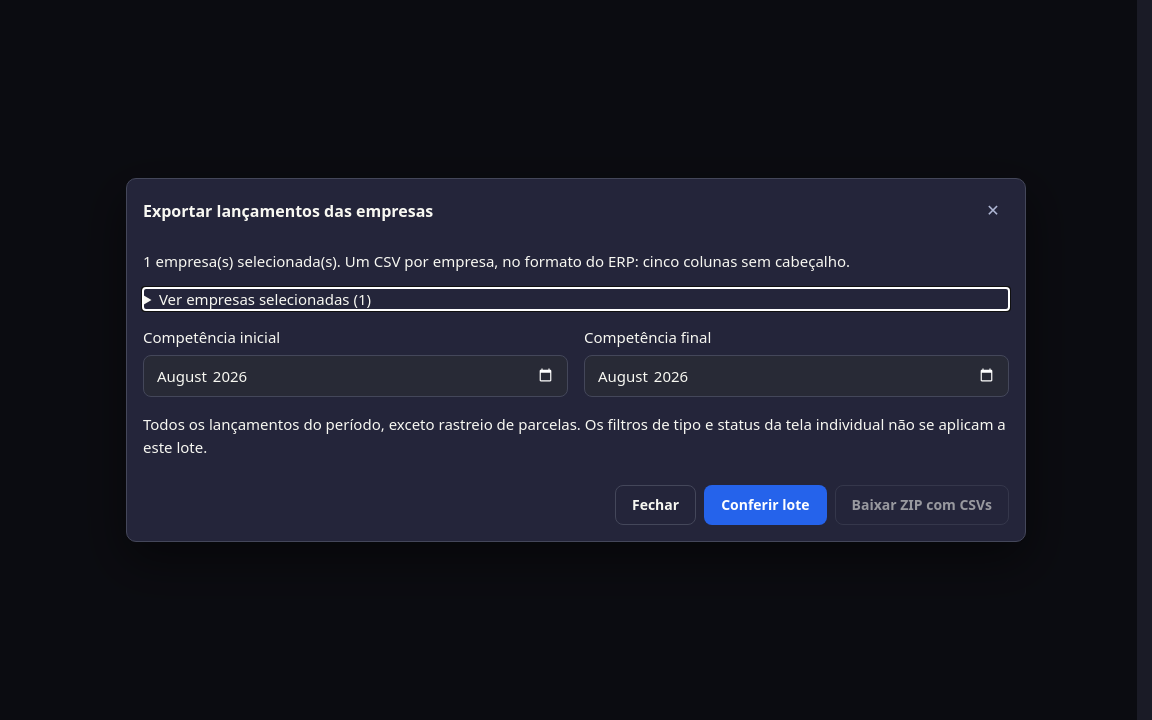
Test: confere selecionadas e bloqueia download até reconhecer alertas
This screenshot has width=1152, height=720.
Click the button "Conferir lote": (765, 505) x1=704 y1=485 x2=826 y2=525
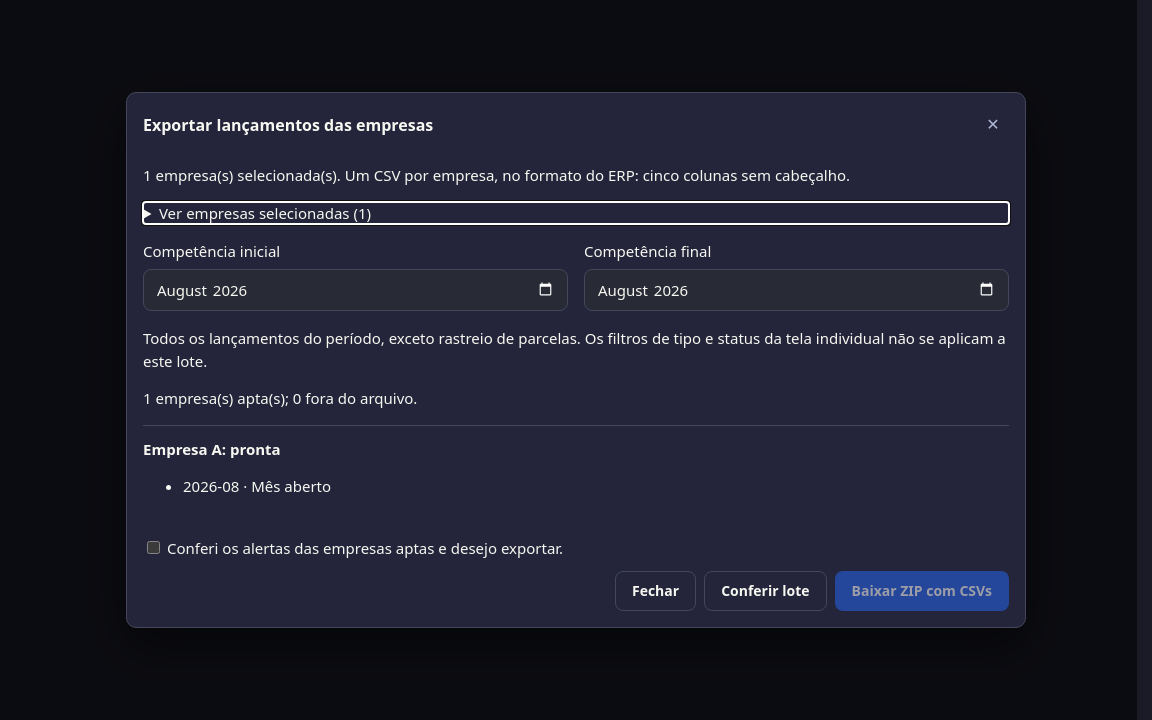
Expected: the button "Baixar ZIP com CSVs" is disabled, x1=834 y1=571 x2=1009 y2=611
Expected: the list item "2026-08 · Mês aberto" is shown, x1=183 y1=476 x2=331 y2=496
Click the checkbox: (154, 547) x1=147 y1=540 x2=160 y2=554
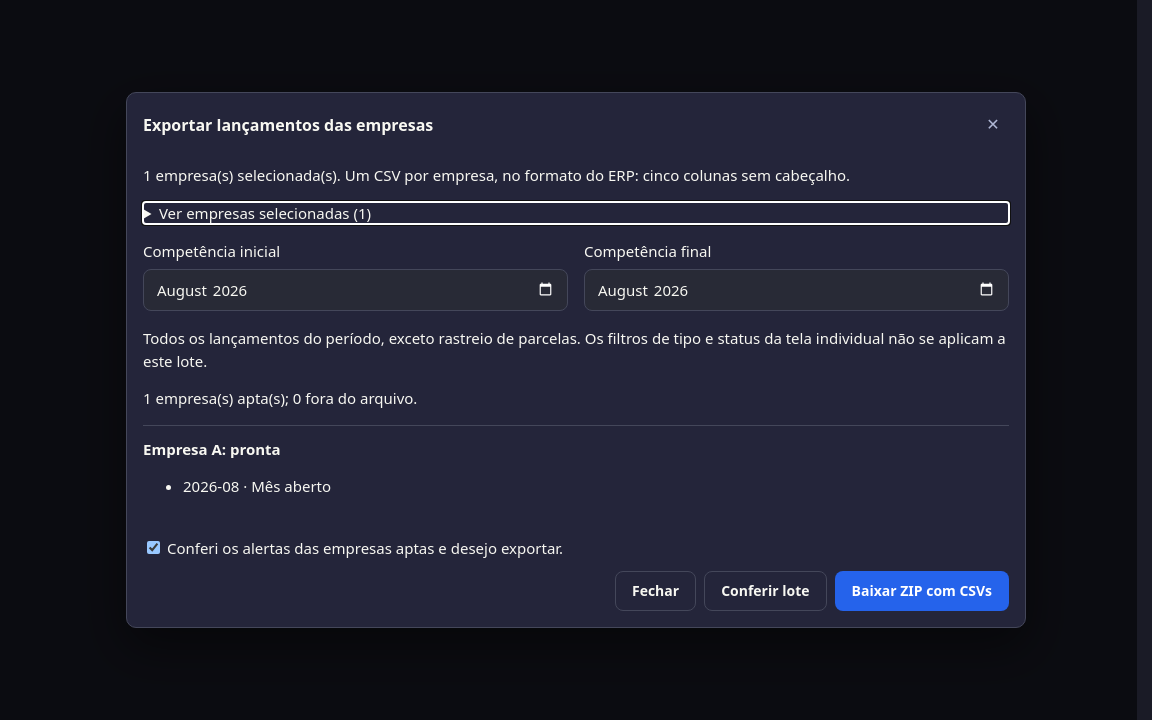
Click the button "Baixar ZIP com CSVs": (922, 591) x1=834 y1=571 x2=1009 y2=611
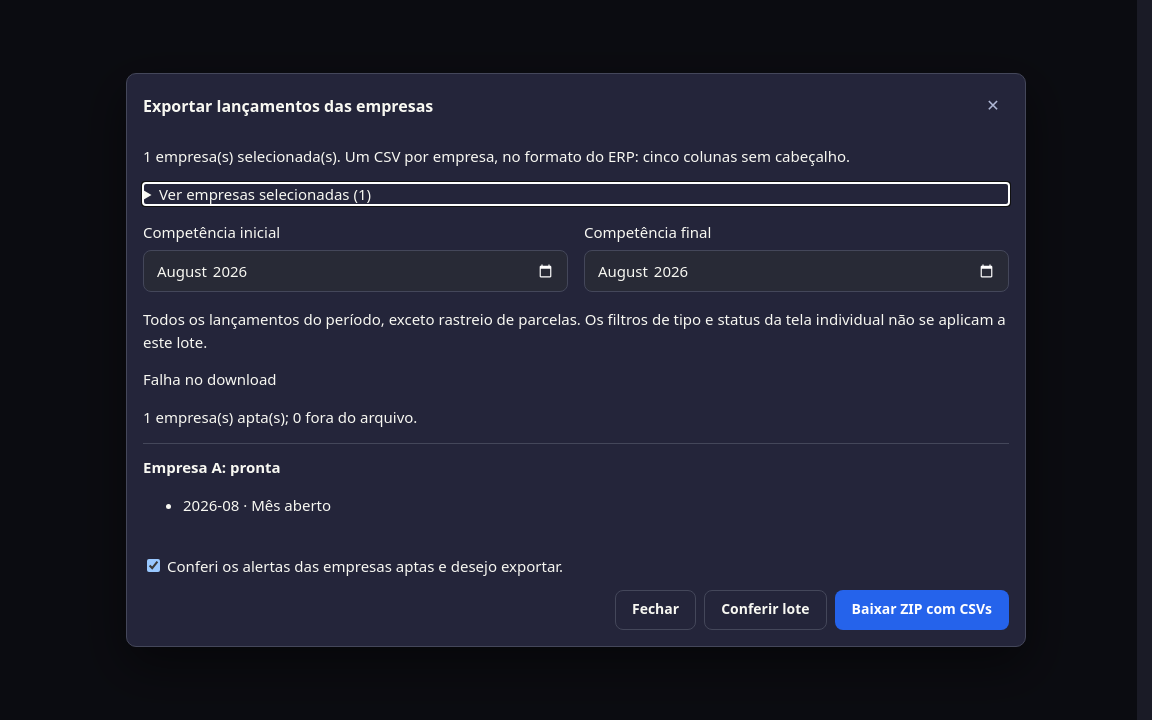
Expected: the message "Falha no download" is shown, x1=143 y1=369 x2=276 y2=389
